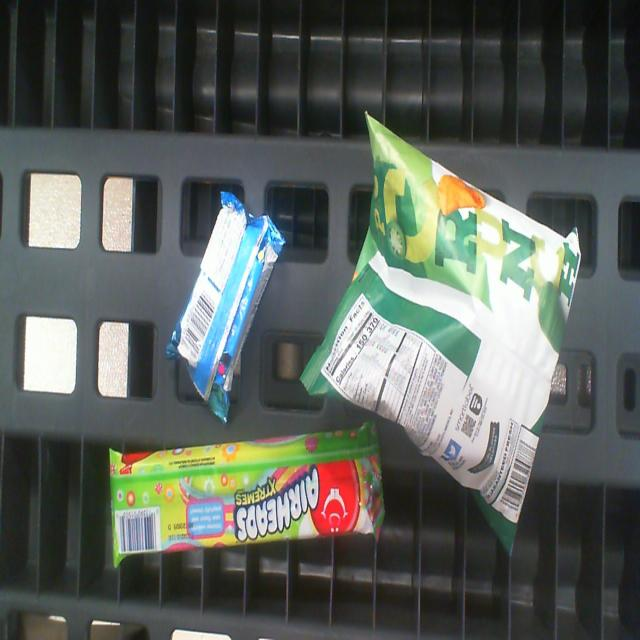snack: (302, 111, 582, 549), (110, 422, 378, 556), (168, 196, 283, 419)
